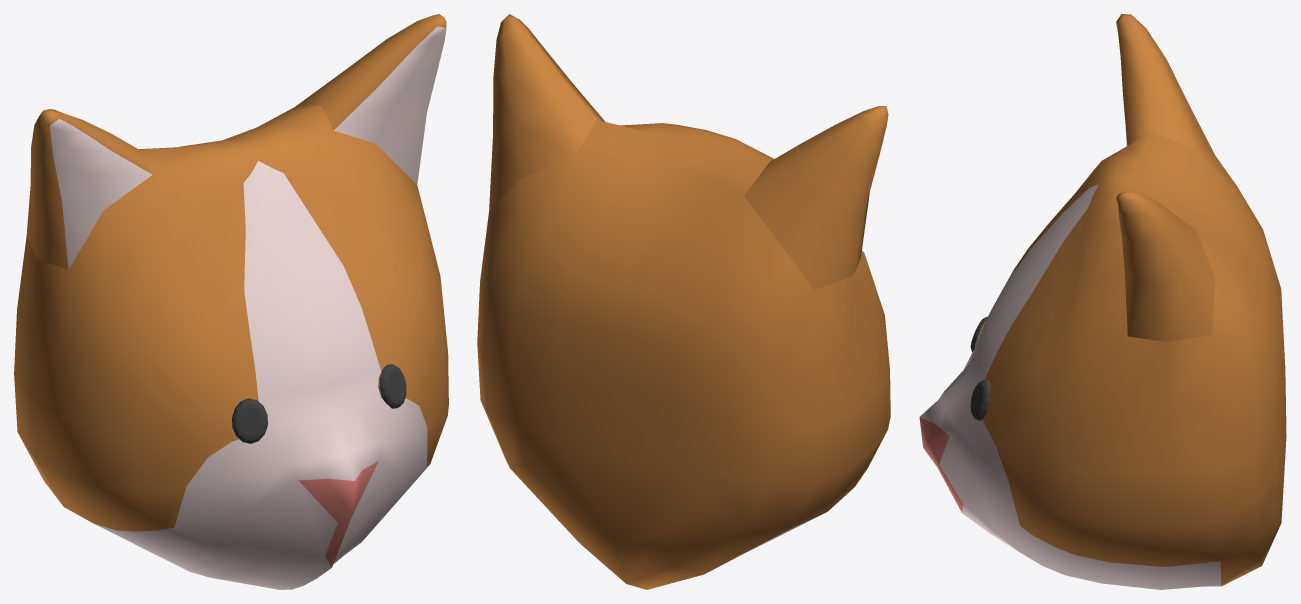
Rendered from CatModel.glb.
3 renders of one model, left to right at view 1: azimuth 30°, elevation 25°; view 2: azimuth 150°, elevation 25°; view 3: azimuth 270°, elevation 25°, orthographic. The views are drawn at different scales.
Parts seen in each view (by area): view 1: Gato; view 2: Gato; view 3: Gato.
Part boxes in pixels (x1,y1,x2,y2): Gato: (14,14,448,589); Gato: (477,14,890,589); Gato: (919,14,1286,589).
Size of the model in its own units: 0.8167 by 1 by 0.6901.
